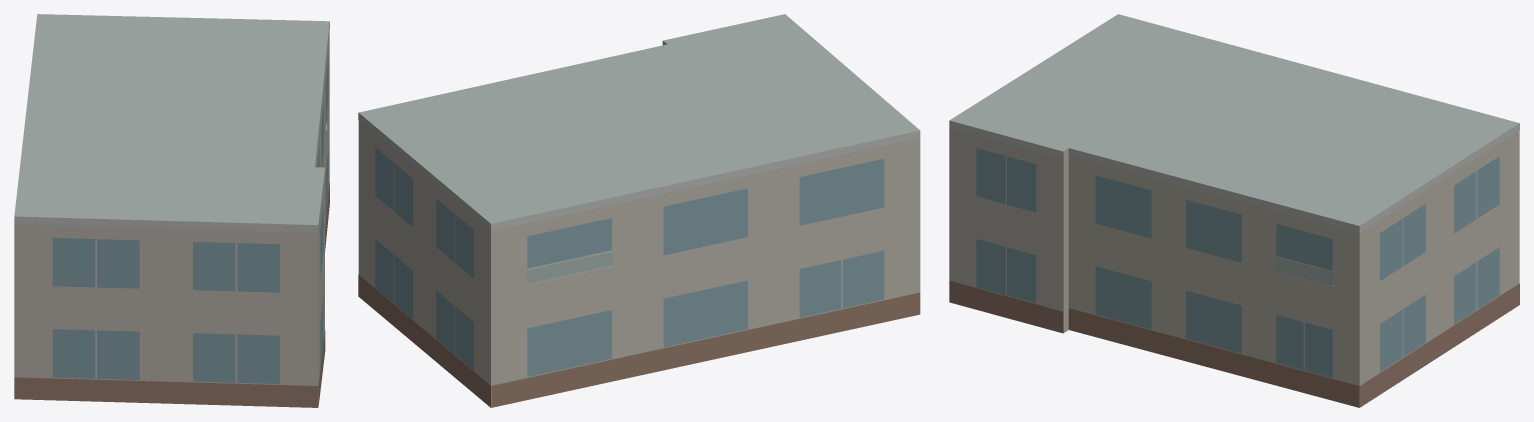
The model's file is survey-upis-32657936.glb.
The picture shows the model from 3 angles, left to right: view 1: azimuth 30°, elevation 25°; view 2: azimuth 150°, elevation 25°; view 3: azimuth 270°, elevation 25°; orthographic projection.
Visible parts, largest first — view 1: survey-upis-32657936.tmp; view 2: survey-upis-32657936.tmp; view 3: survey-upis-32657936.tmp.
Boxes of the visible parts, bbox=[...] form: survey-upis-32657936.tmp: bbox=[14, 14, 329, 407]; survey-upis-32657936.tmp: bbox=[358, 14, 920, 407]; survey-upis-32657936.tmp: bbox=[949, 14, 1519, 407].
Size of the model in its own units: 15.26 by 6.1 by 17.35.
